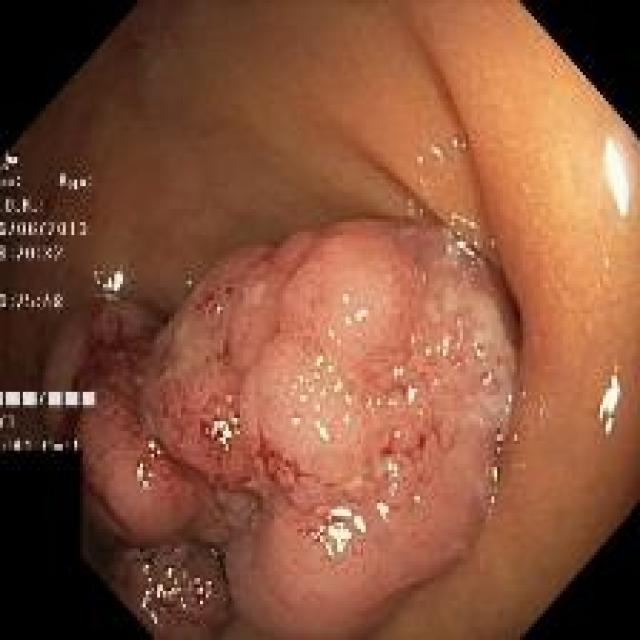Polyps: (74, 220, 519, 639)
